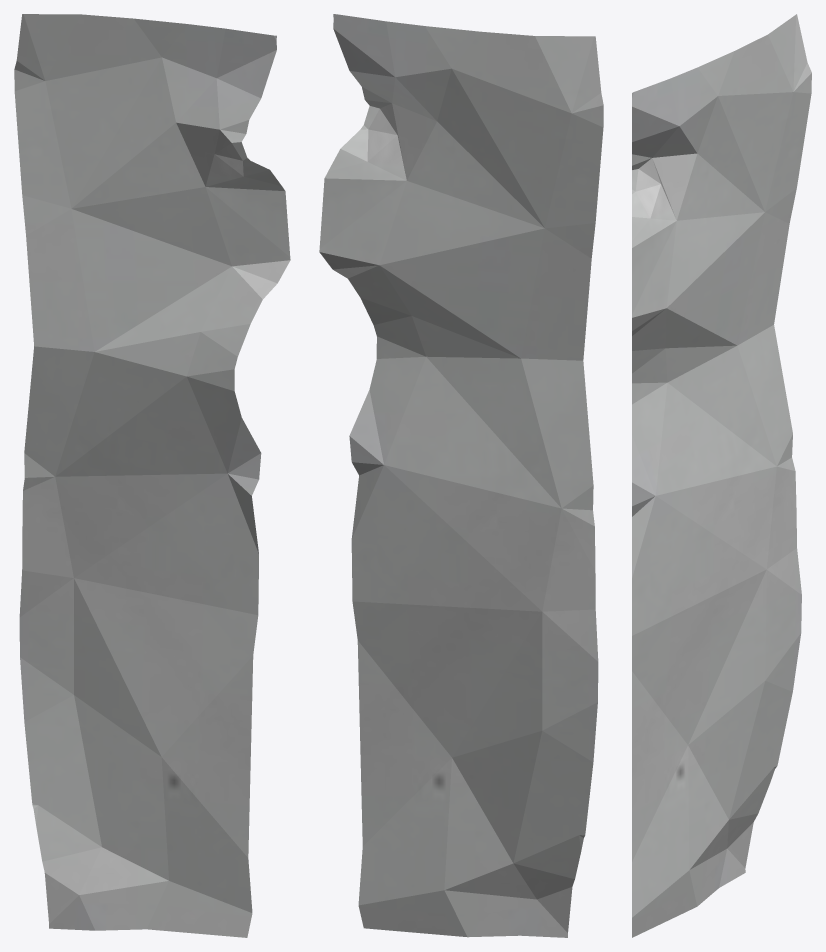
3 renders of one model, left to right at view 1: azimuth 30°, elevation 25°; view 2: azimuth 210°, elevation 25°; view 3: azimuth 270°, elevation 25°, orthographic. The views are drawn at different scales.
Bounding box in the file's own units: 0.1786 × 0.8373 × 0.159.
Materials: 1 (1 with a texture image).
